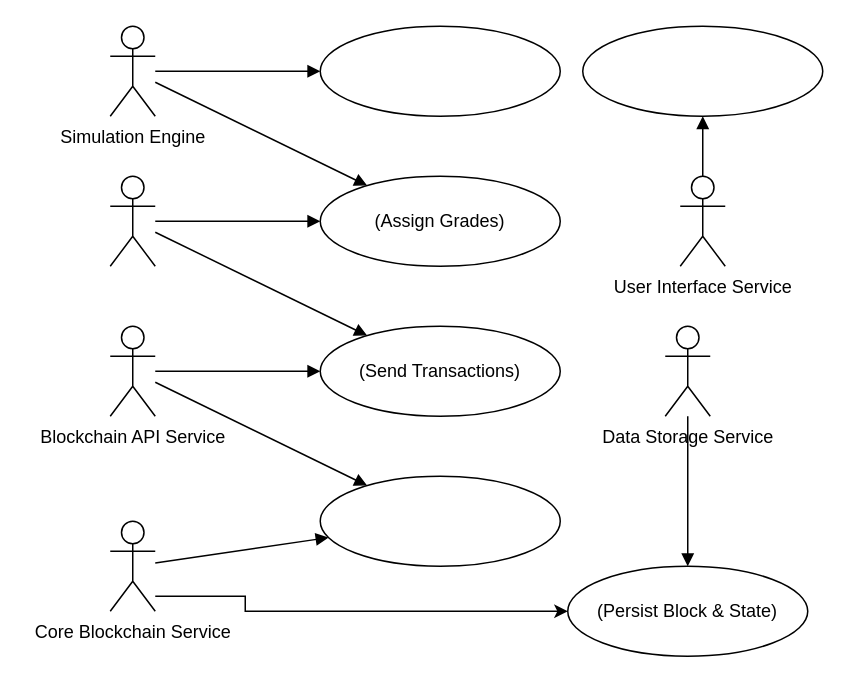
Image size: 849x683. Some labels were removed from this diagram. Here are the shapes that lost their labels. From the top down, the box of each, then its label:
(319, 25, 560, 116): (Start Simulation)
(581, 25, 823, 116): (View Info)
(109, 175, 155, 266): Grade Assignment Service
(319, 475, 560, 566): (Process Block)
